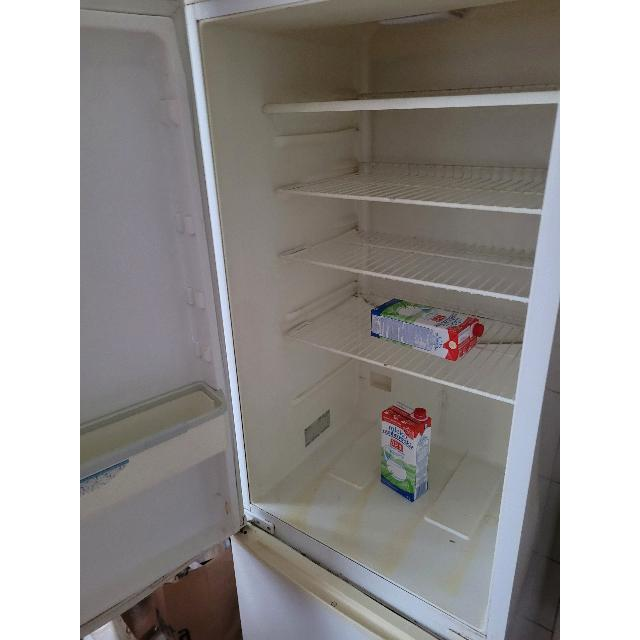milk: (371, 300, 484, 360), (381, 401, 431, 503)
